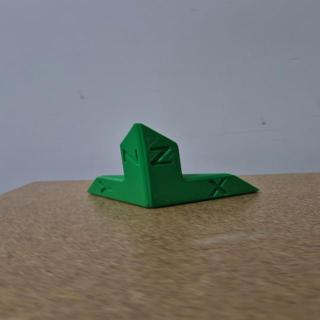eje: (84, 120, 262, 210)
